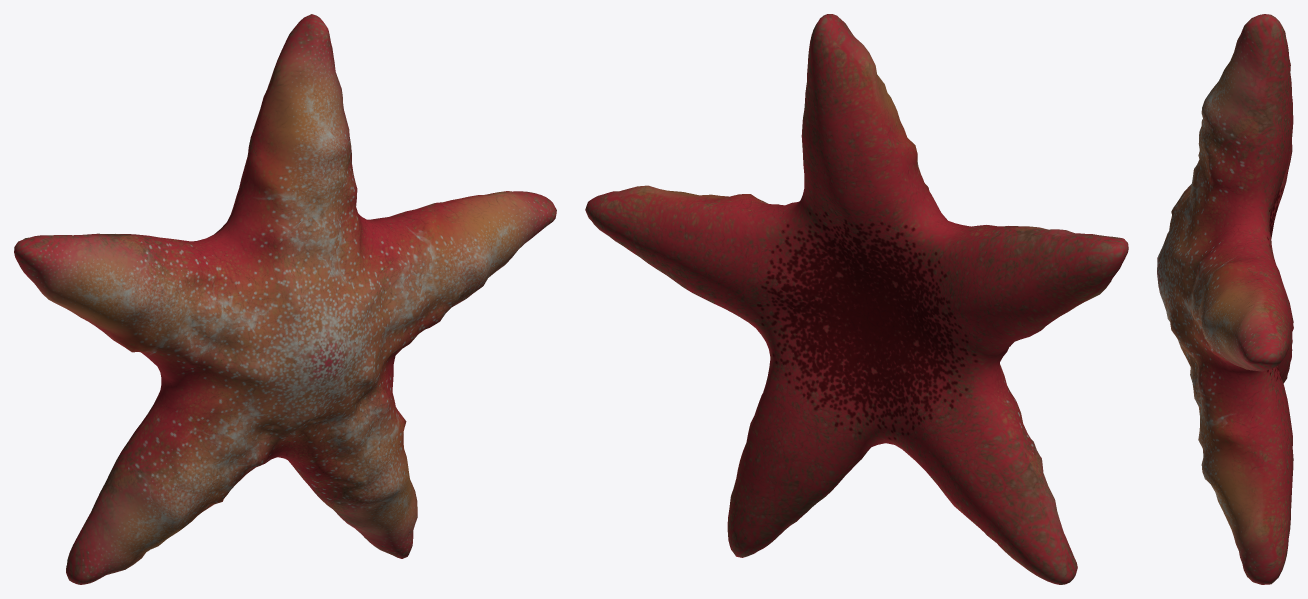
File: starfishWeekly_edit_for_FBX.fbx
The picture shows the model from 3 angles, left to right: view 1: azimuth 30°, elevation 25°; view 2: azimuth 150°, elevation 25°; view 3: azimuth 270°, elevation 25°; orthographic projection. The views are drawn at different scales.
Parts seen in each view (by area): view 1: starfishWeekly; view 2: starfishWeekly; view 3: starfishWeekly.
Part boxes in pixels (<box>): starfishWeekly: <box>14,14,556,584</box>; starfishWeekly: <box>585,14,1128,584</box>; starfishWeekly: <box>1157,14,1293,584</box>.
Bounding box in the file's own units: 33652 × 33552 × 7863.
